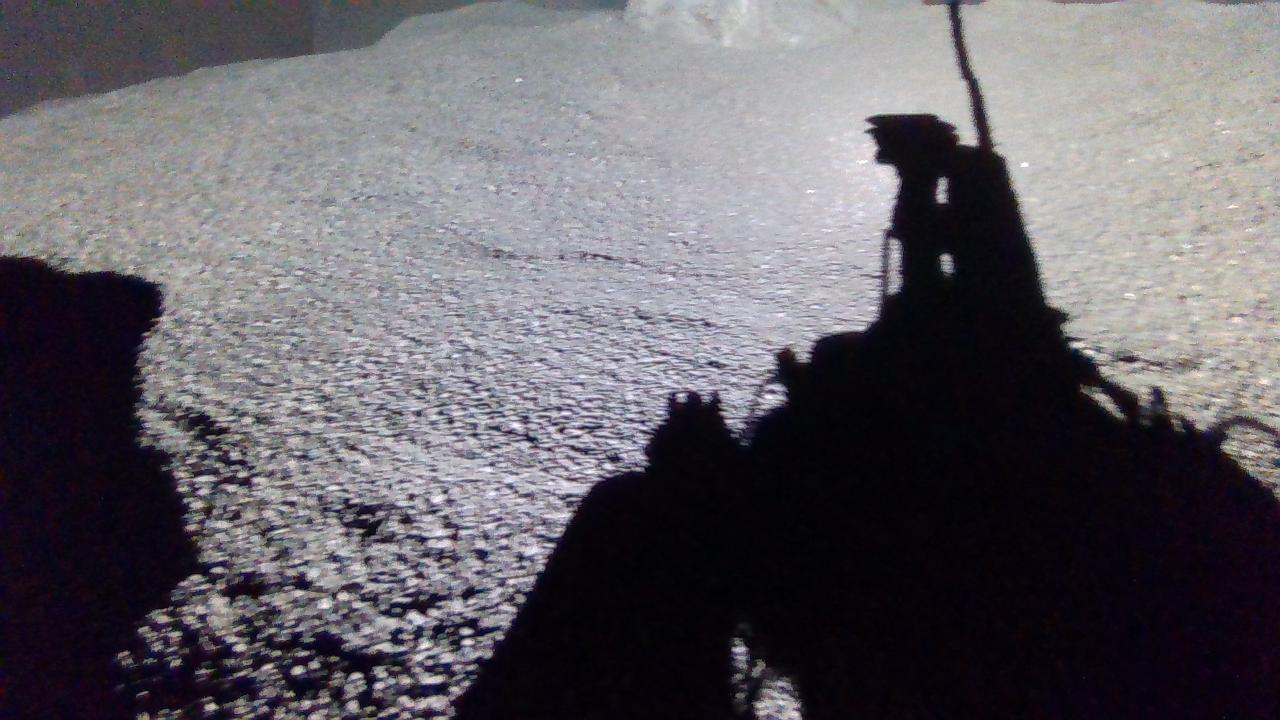rock: (624, 0, 859, 46)
